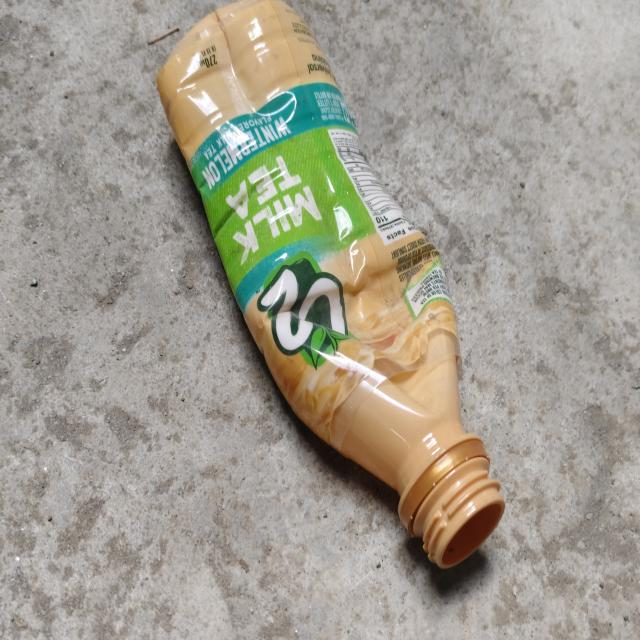Bottle: (154, 0, 506, 573)
